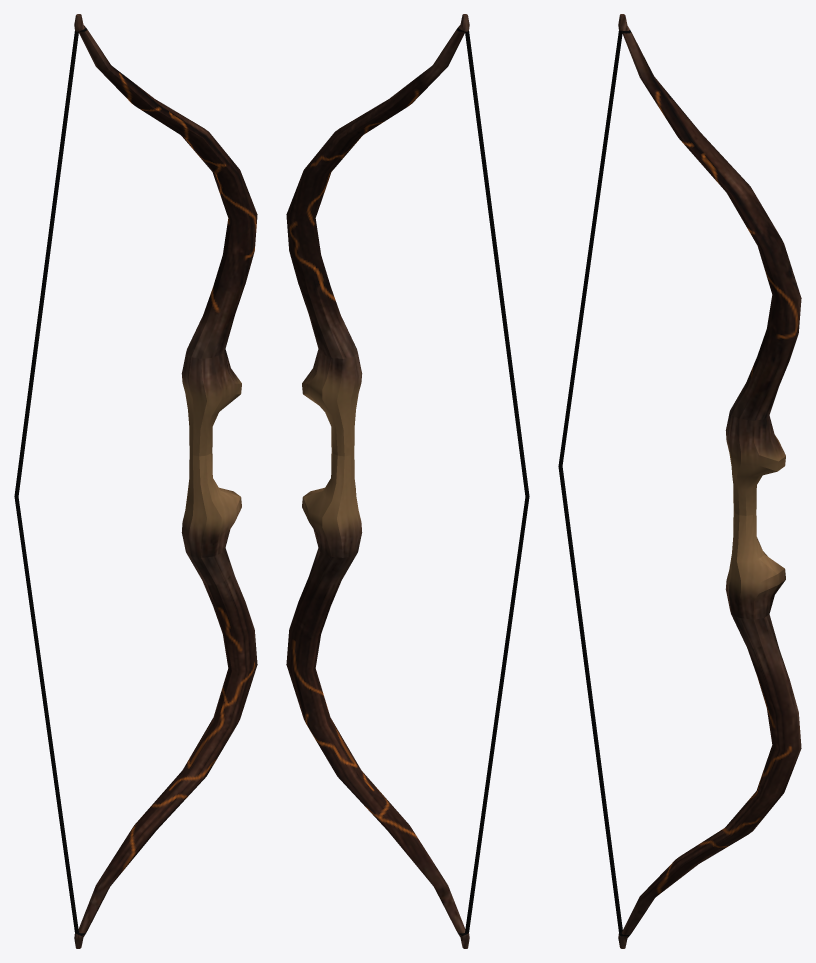
Rendered from normal_bow.gltf.
The picture shows the model from 3 angles, left to right: view 1: azimuth 30°, elevation 25°; view 2: azimuth 150°, elevation 25°; view 3: azimuth 330°, elevation 25°; orthographic projection.
Visible parts, largest first — view 1: Normal Bow; view 2: Normal Bow; view 3: Normal Bow.
Boxes of the visible parts, bbox=[...] form: Normal Bow: bbox=[14, 14, 257, 948]; Normal Bow: bbox=[286, 14, 529, 948]; Normal Bow: bbox=[558, 14, 801, 948].
Bounding box in the file's own units: 23.4 × 86.74 × 4.12.
1 material, 1 textured.
